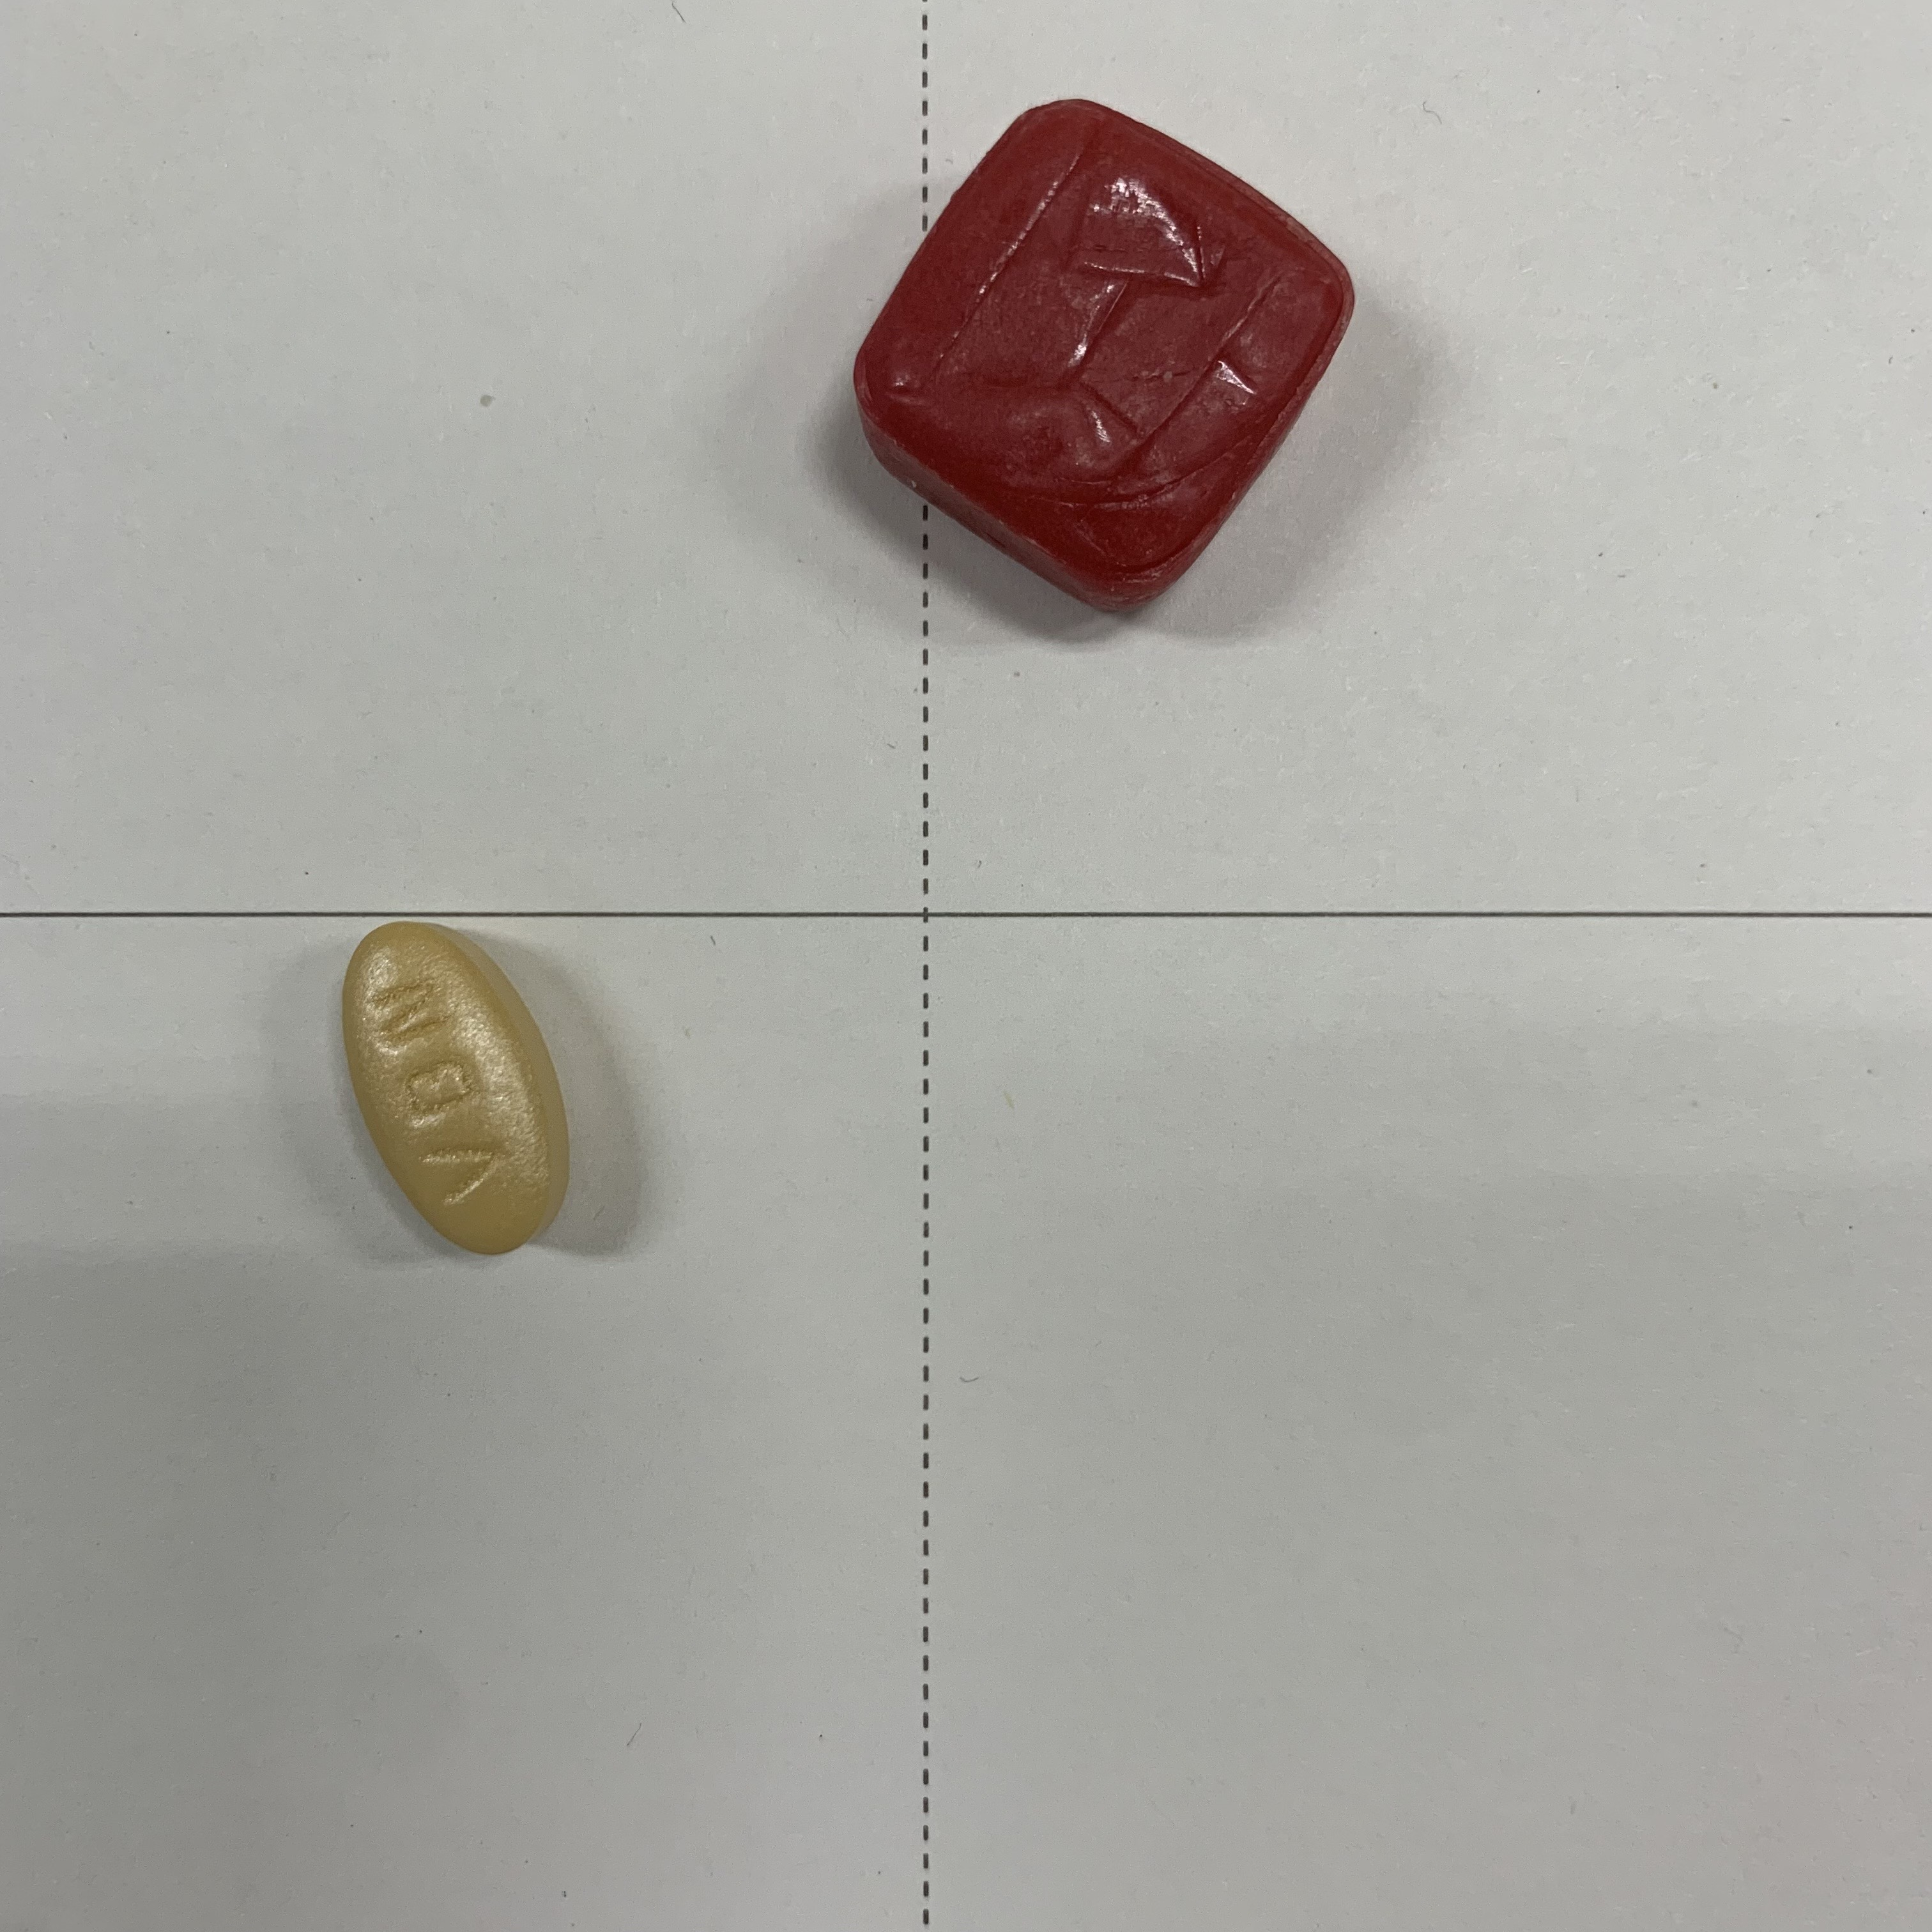oval_drug: (297, 915, 616, 1290)
sqr_drug: (819, 78, 1382, 630)
